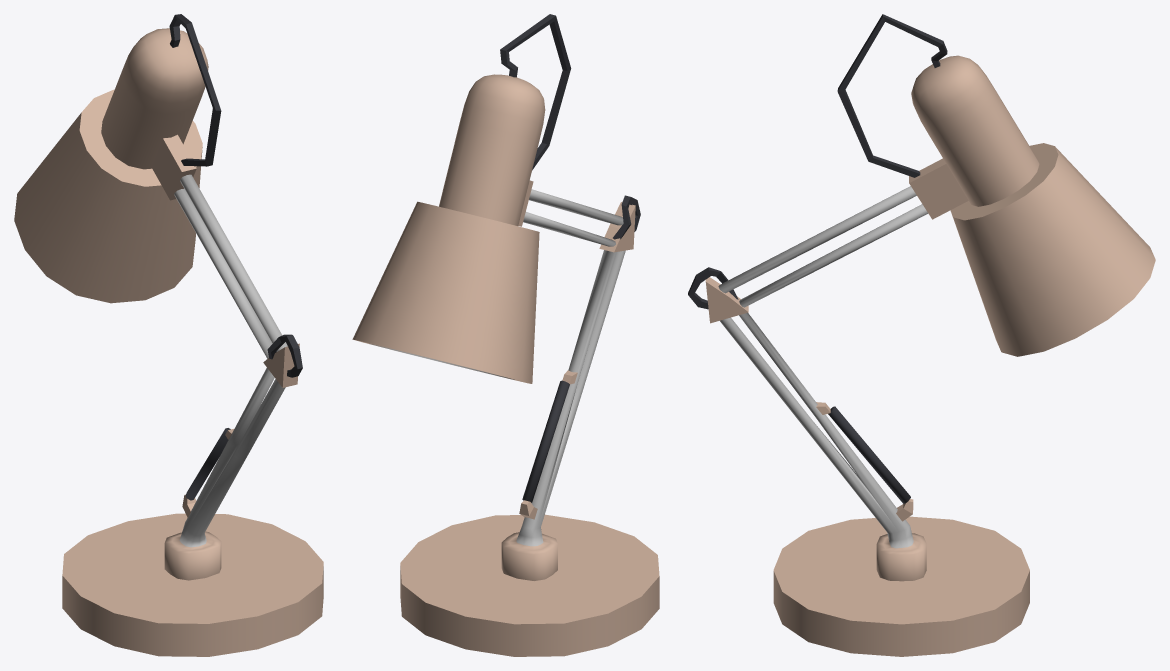
File: lamp.glb
3 views of the same model, side by side, from view 1: azimuth 30°, elevation 25°; view 2: azimuth 150°, elevation 25°; view 3: azimuth 270°, elevation 25° (orthographic).
Visible parts, largest first — view 1: Cube, Cube.001, Cube.002, Cube.003, Cube.006, Cube.004, Cube.007; view 2: Cube, Cube.001, Cube.002, Cube.006, Cube.004, Cube.003, Cube.007; view 3: Cube, Cube.001, Cube.002, Cube.003, Cube.006, Cube.004.
Part boxes in pixels (x1,y1,x2,y2): Cube: [14, 28, 208, 303]; Cube.001: [62, 513, 323, 656]; Cube.002: [164, 174, 287, 580]; Cube.003: [151, 134, 299, 387]; Cube.006: [169, 14, 221, 166]; Cube.004: [185, 428, 230, 500]; Cube.007: [267, 334, 302, 377]; Cube: [352, 74, 545, 383]; Cube.001: [400, 514, 659, 656]; Cube.002: [501, 189, 625, 580]; Cube.006: [500, 14, 571, 170]; Cube.004: [522, 380, 569, 502]; Cube.003: [518, 180, 635, 252]; Cube.007: [613, 195, 640, 239]; Cube: [911, 55, 1155, 356]; Cube.001: [773, 516, 1029, 656]; Cube.002: [718, 186, 928, 581]; Cube.003: [705, 158, 968, 323]; Cube.006: [837, 14, 947, 177]; Cube.004: [828, 406, 910, 503].
Size of the model in its own units: 0.3221 by 0.8051 by 0.5872.
